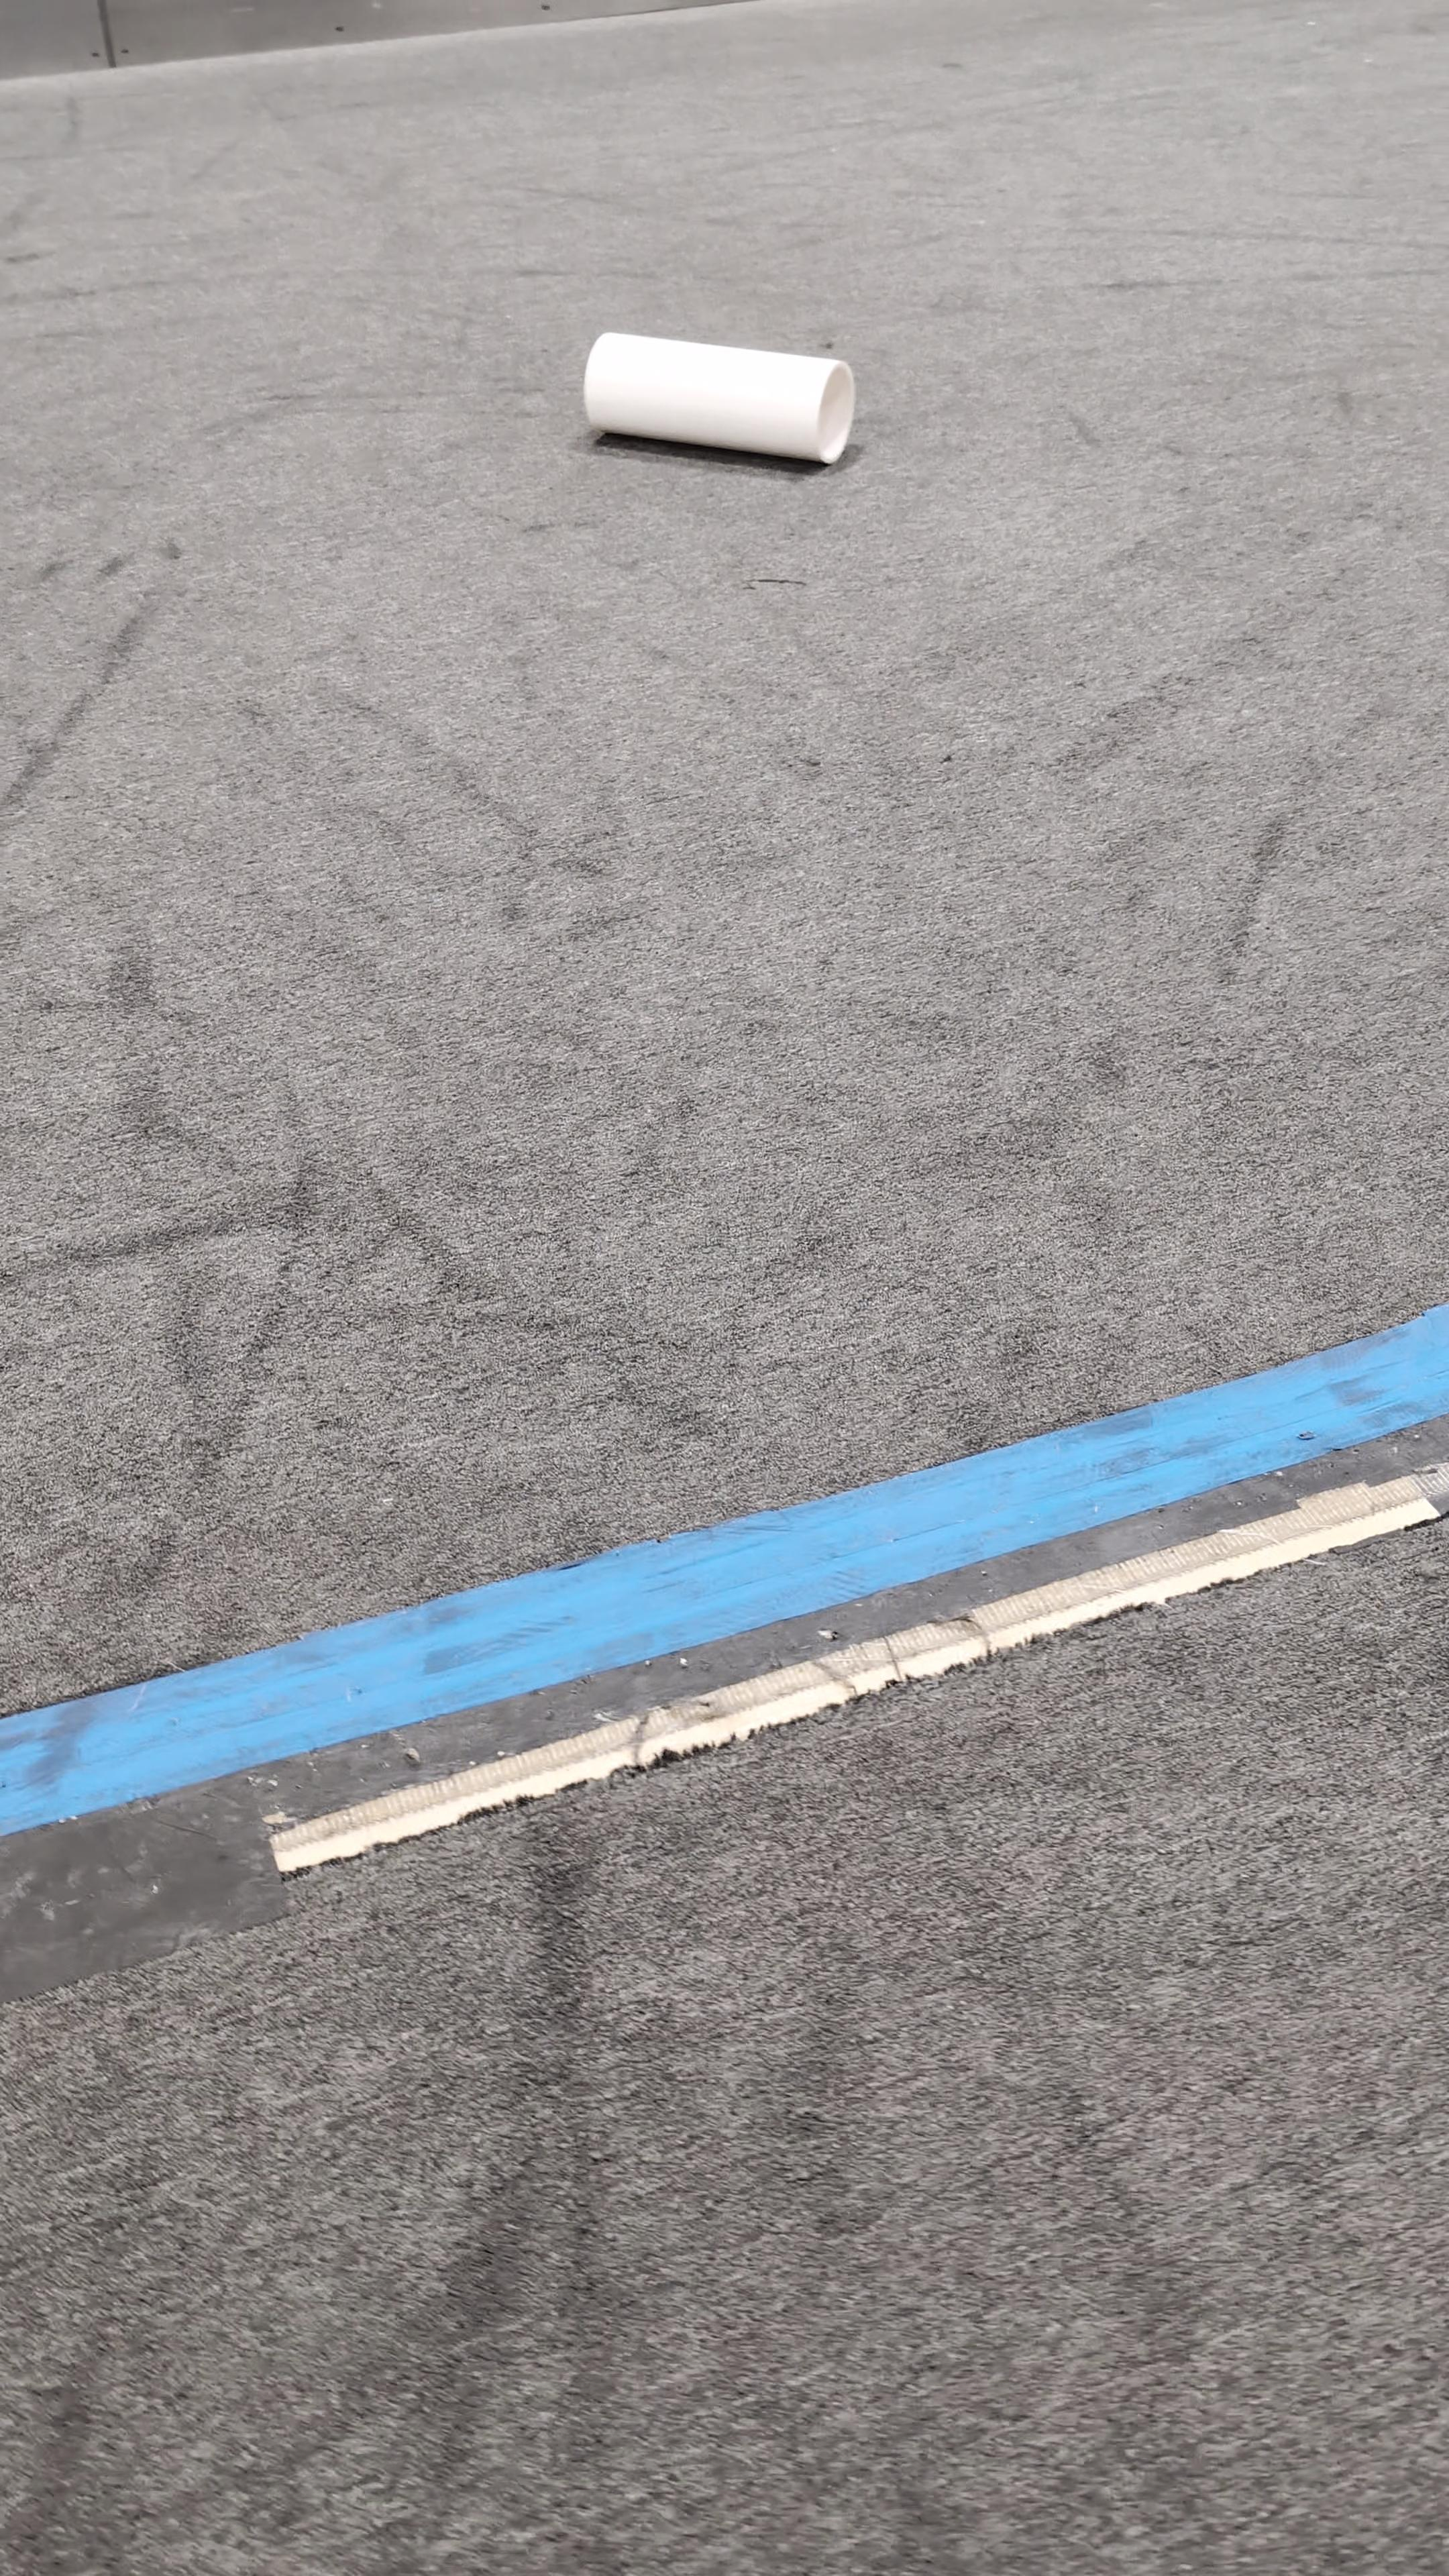coral: (584, 327, 858, 465)
